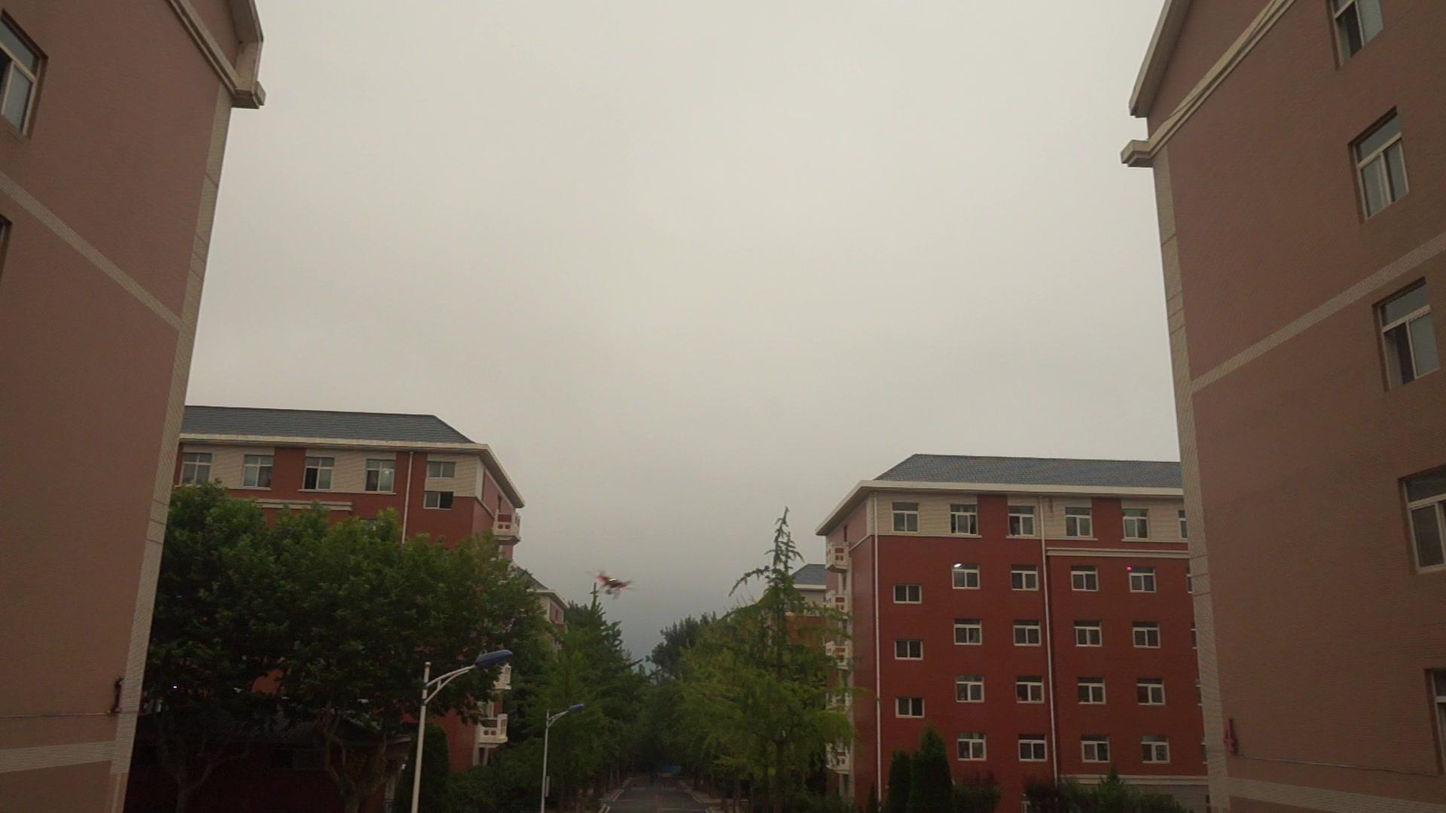UAV: (596, 572, 633, 600)
